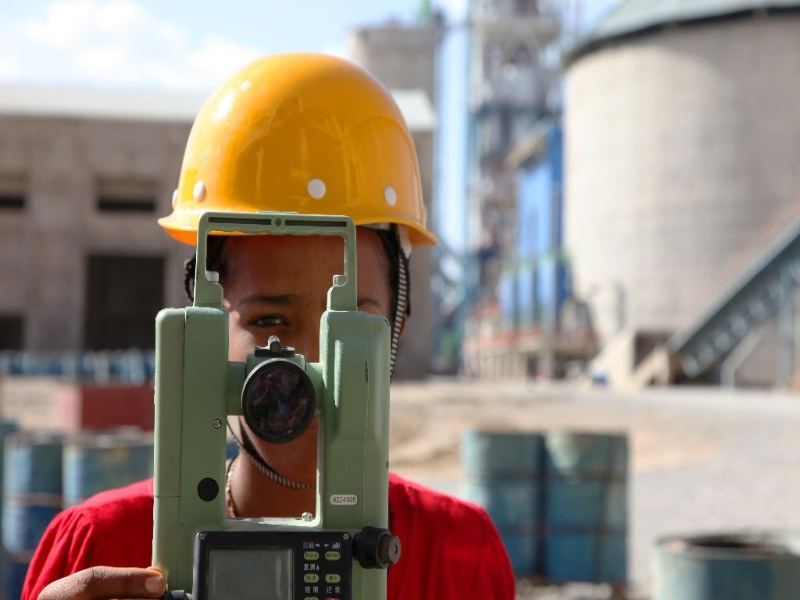Baret: (159, 52, 439, 247)
